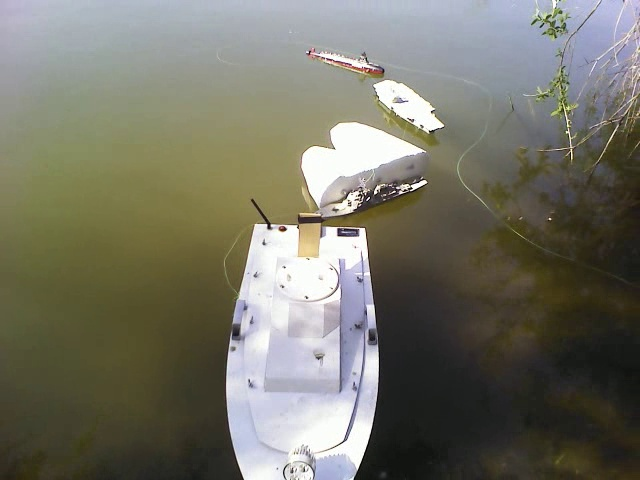aircraft_carrier: (371, 76, 447, 136)
boat: (216, 216, 384, 475)
iceberg: (302, 117, 427, 185)
submarine: (302, 47, 389, 75)
warship: (315, 177, 431, 217)
